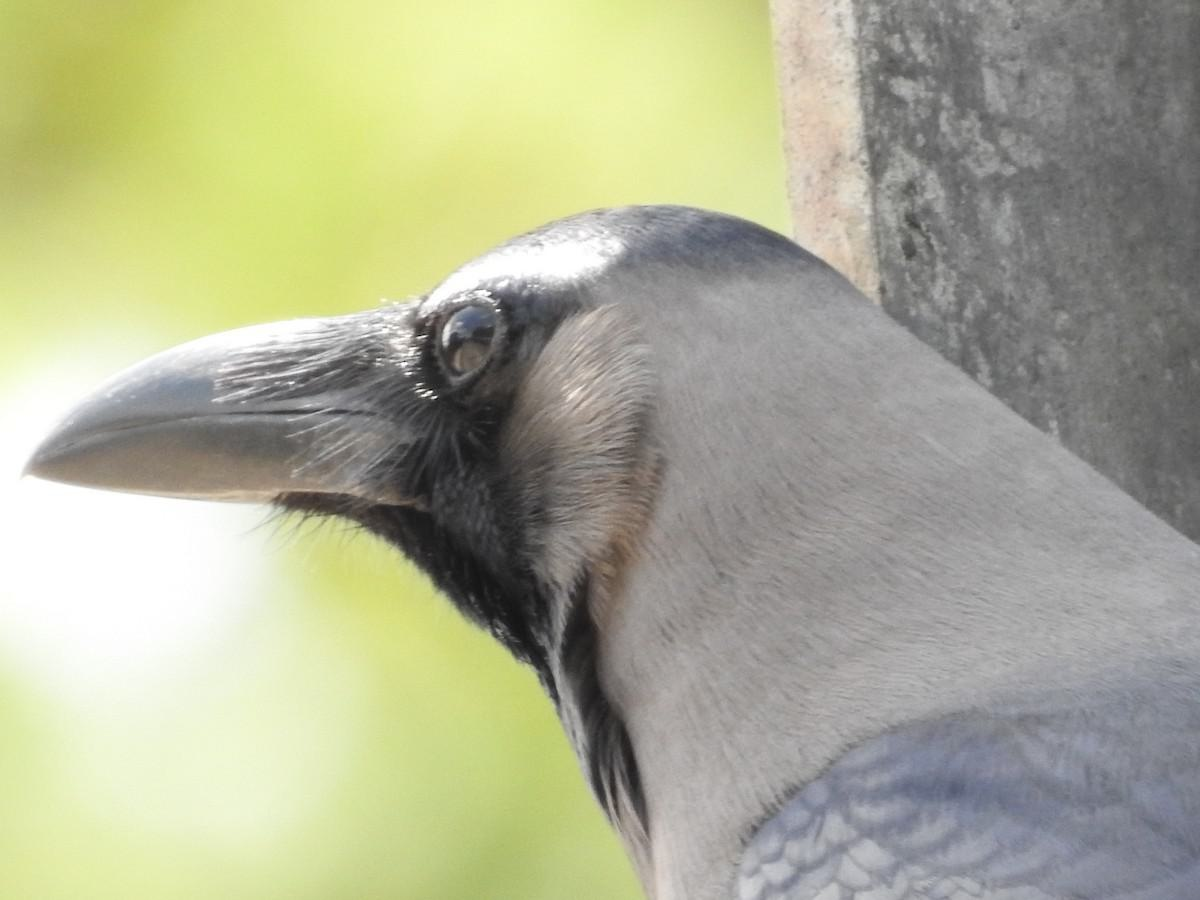crow: (19, 191, 1200, 900)
